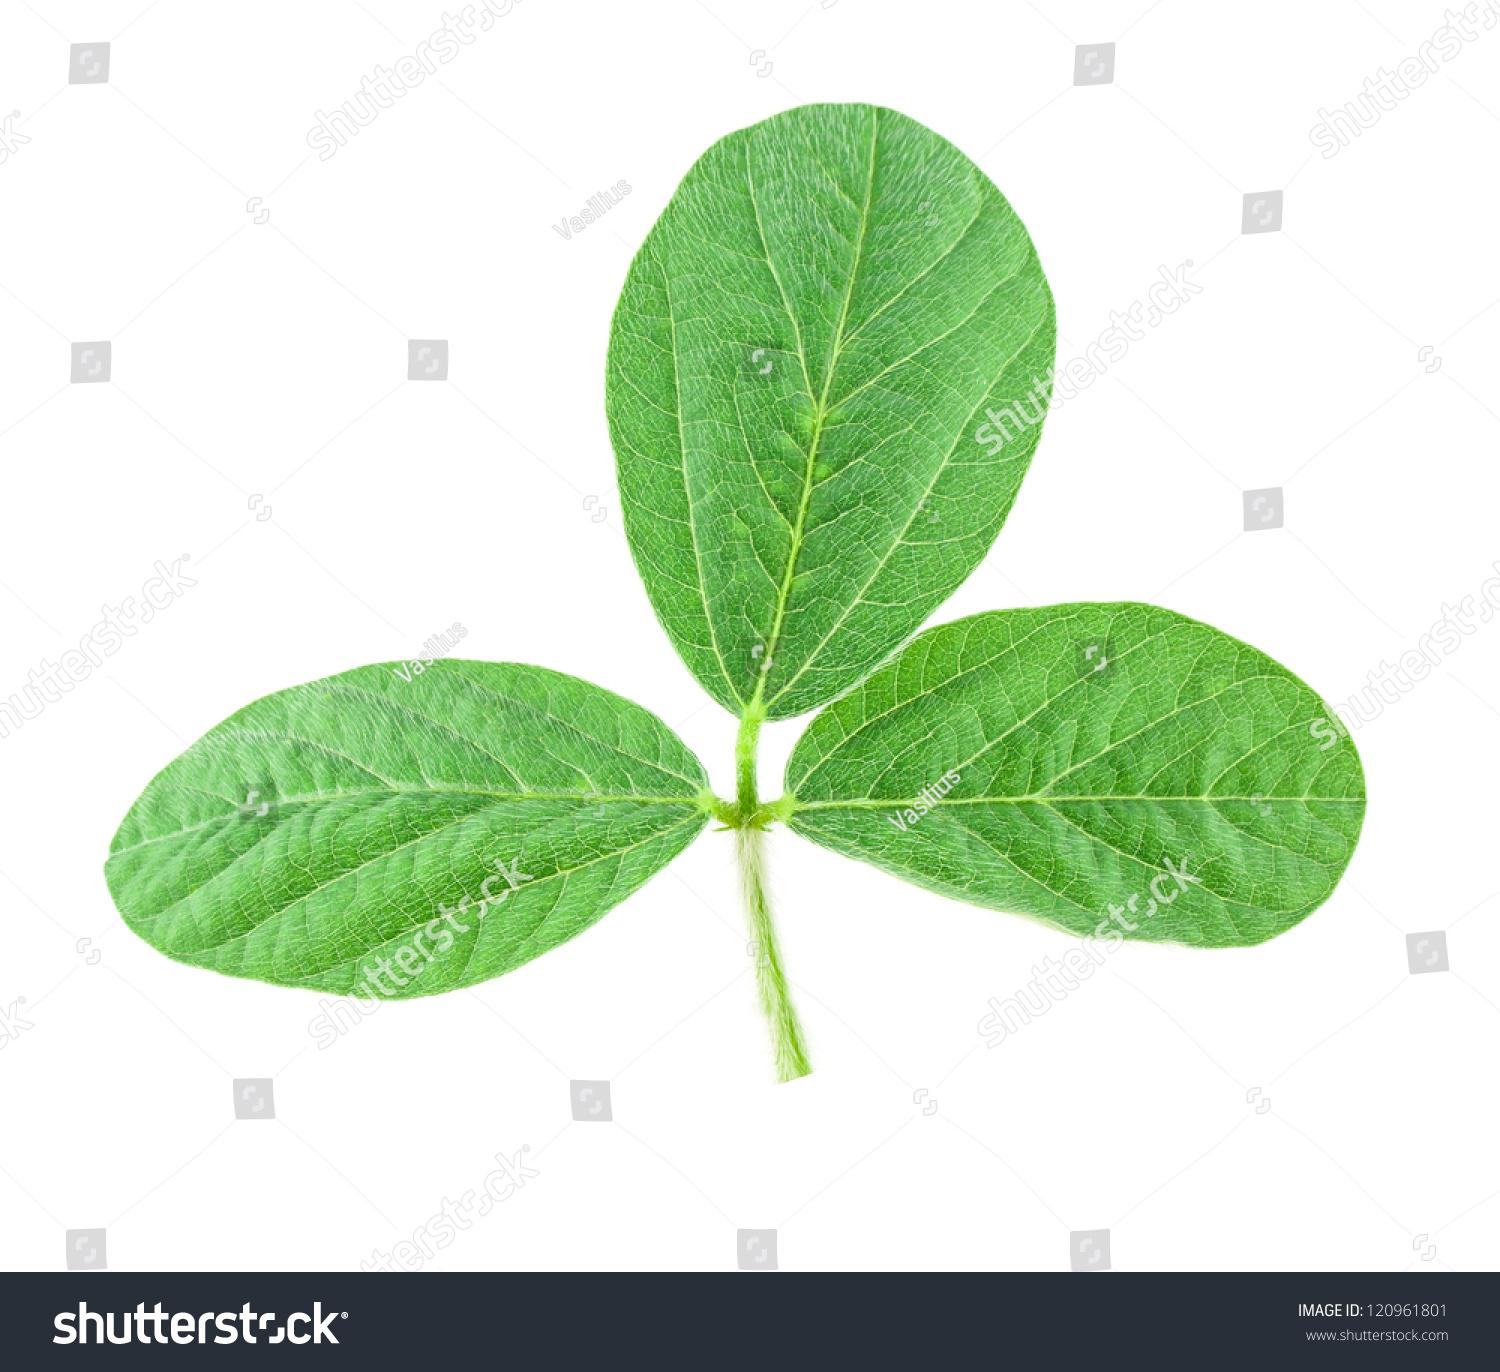Soyabean leaf: (591, 82, 1075, 727), (88, 638, 730, 1014), (780, 597, 1384, 960)
